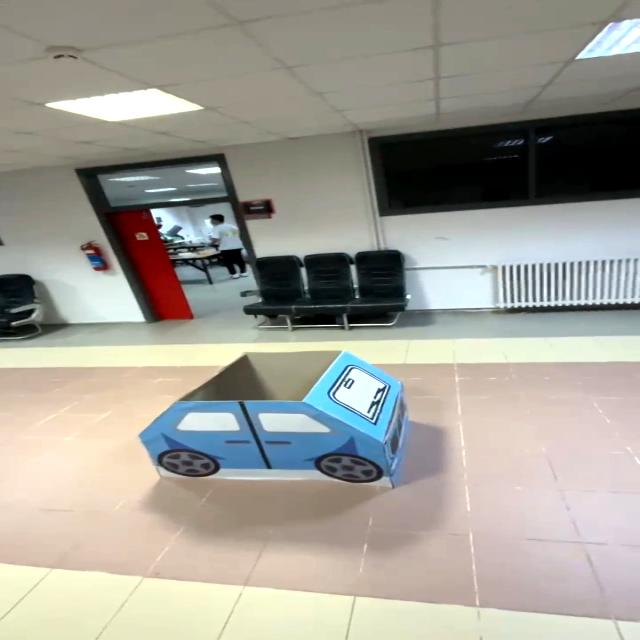blue_car: (135, 333, 440, 538)
